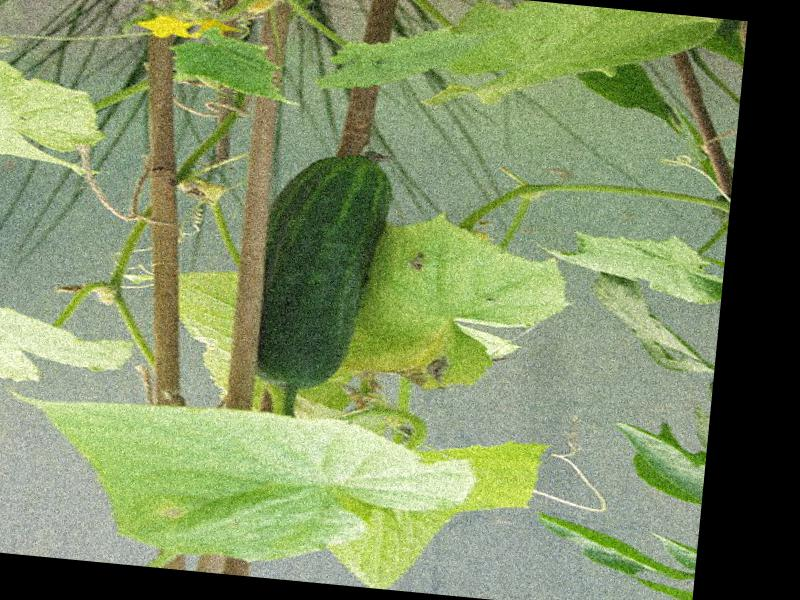Cucumber: (251, 143, 397, 396)
